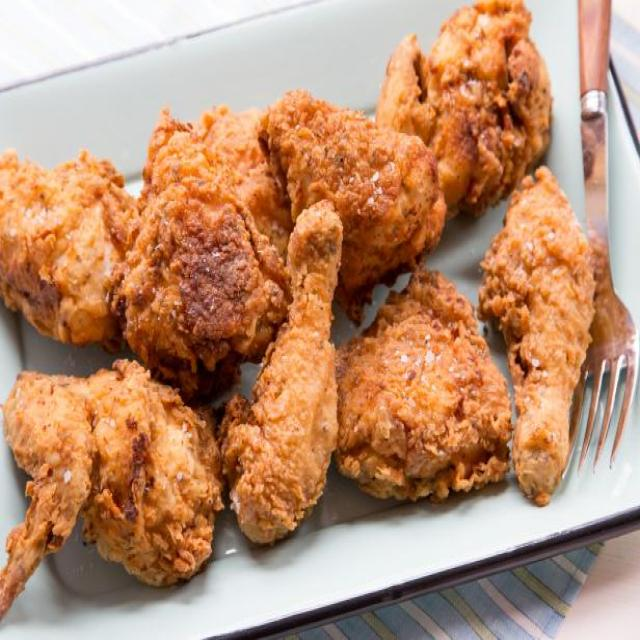Frango: (0, 0, 597, 622)
